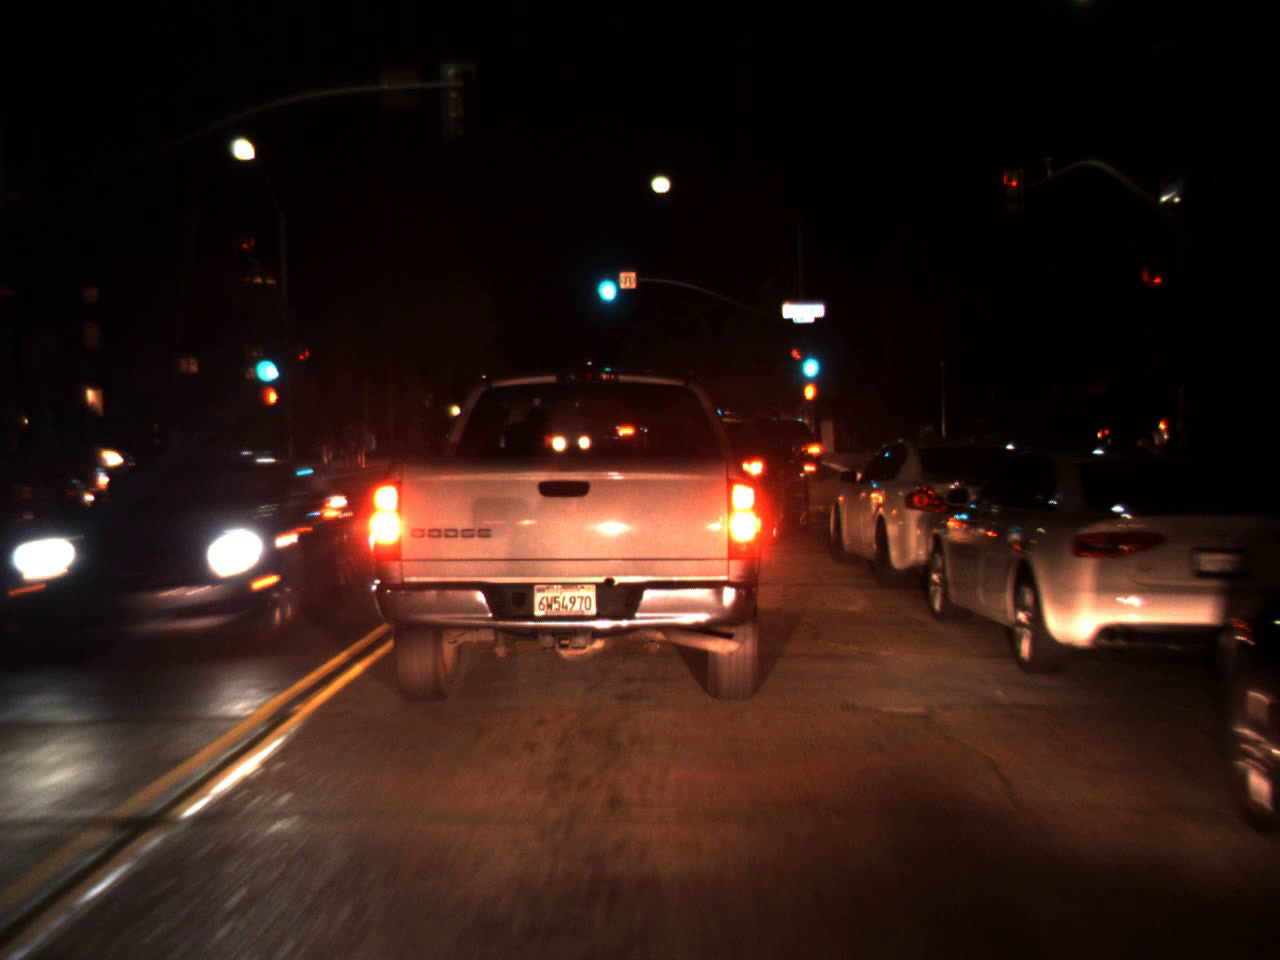go: (249, 333, 279, 390), (590, 252, 620, 309), (797, 332, 822, 386)
